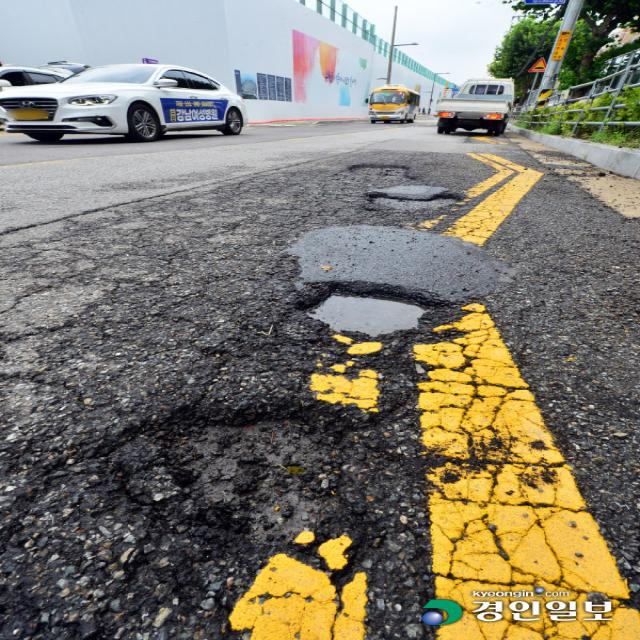pothole: (270, 260, 441, 340), (356, 183, 484, 215), (345, 149, 419, 184)
